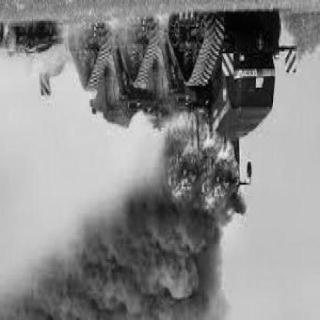Fire: (164, 117, 238, 229)
